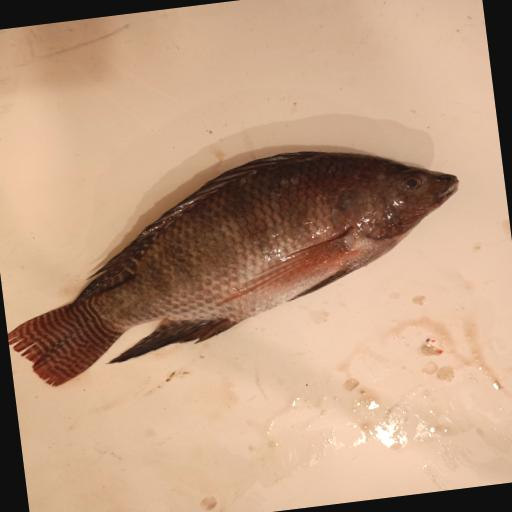Tilapia: (0, 131, 480, 392)
